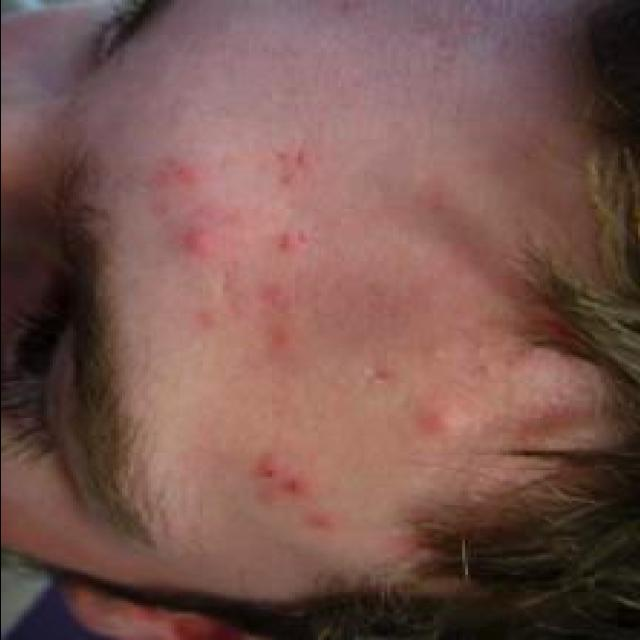Acne: (254, 453, 312, 510), (144, 151, 203, 193), (174, 221, 222, 263), (276, 226, 318, 253)
